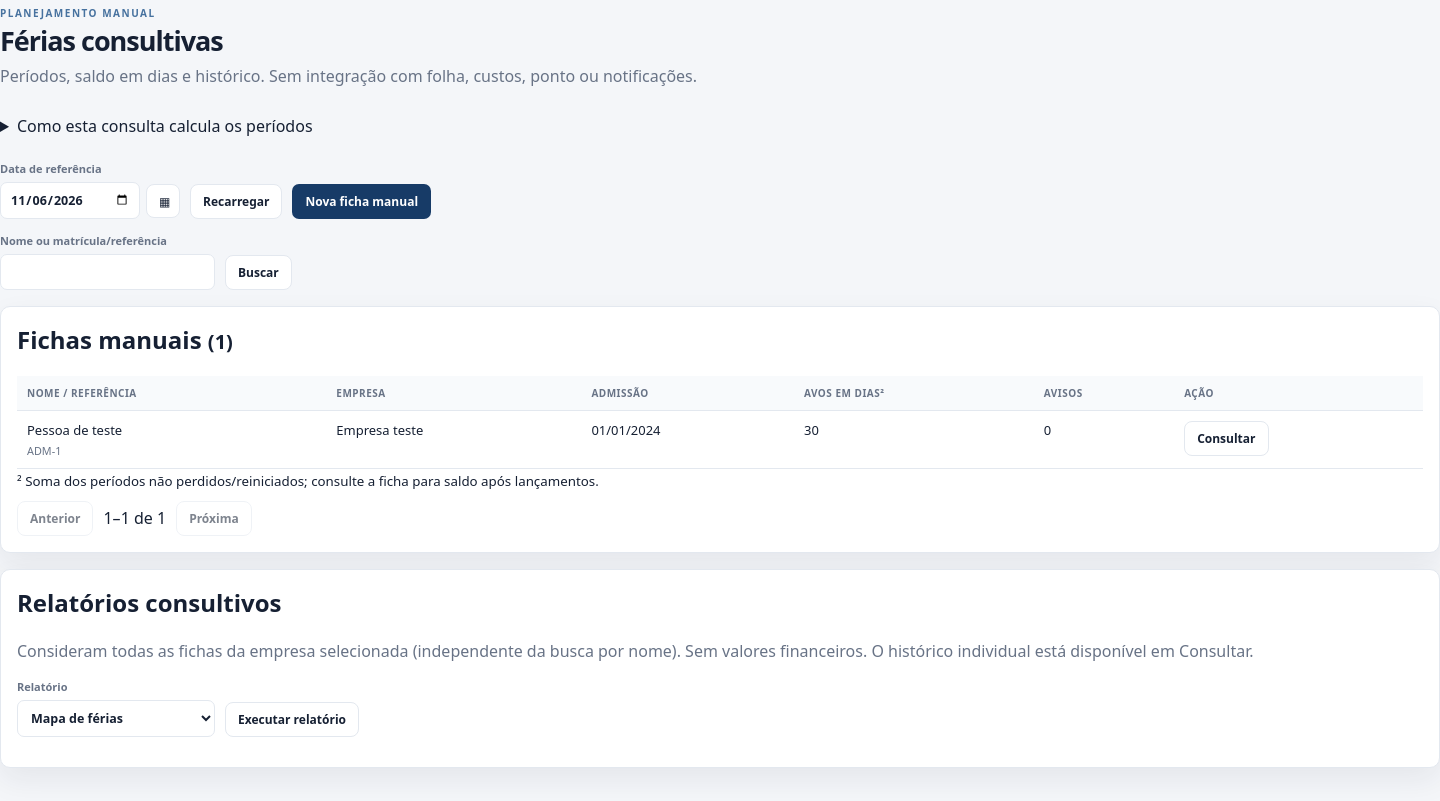
Test: Férias consultivas › só executa relatórios ao solicitar
This screenshot has width=1440, height=801.
What coordinates should you click on to do the following:
click the button "Executar relatório"
I would click on:
 (292, 719)
Its box is [225,702,359,737].
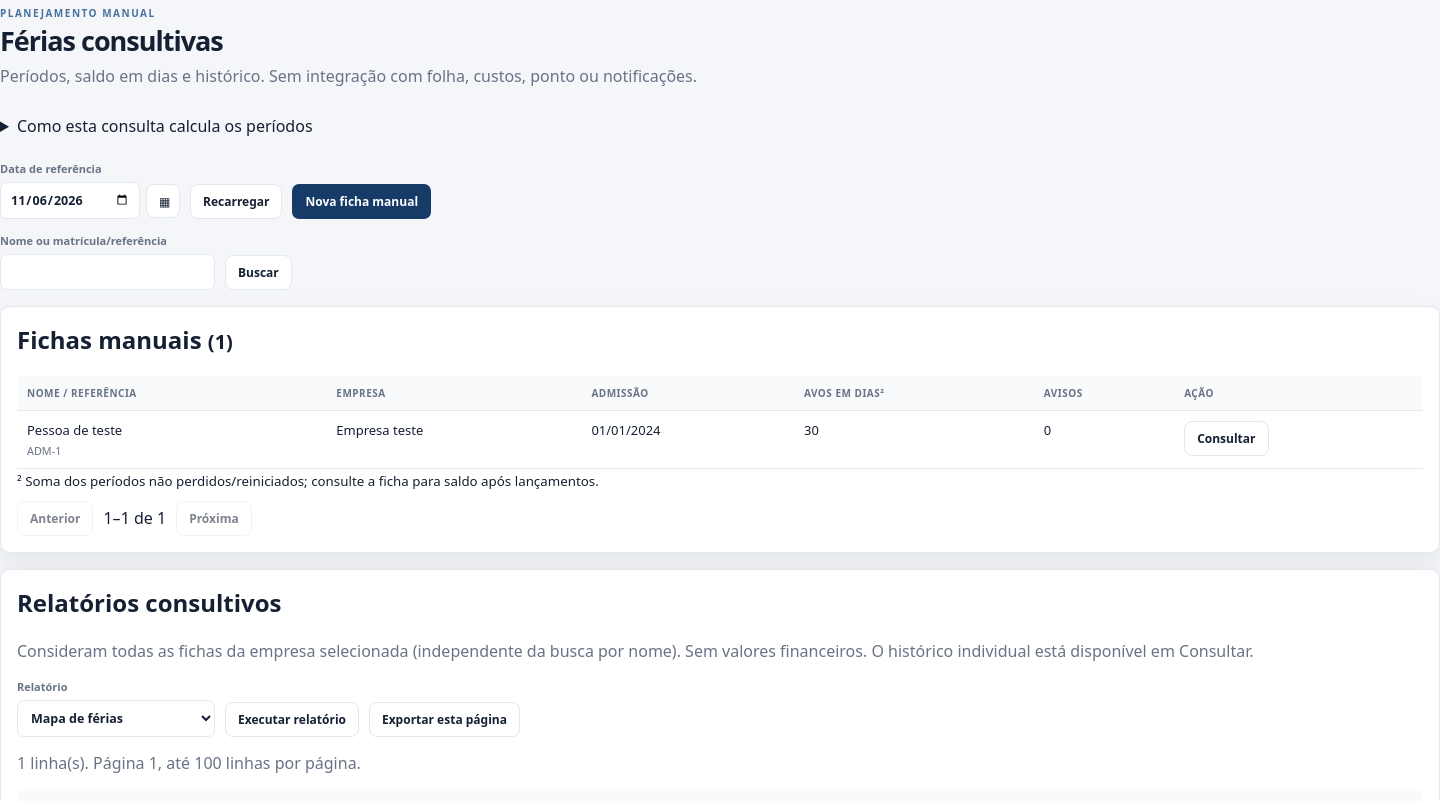
Check: the button "Exportar esta página" is shown, box [369,702,520,737]
